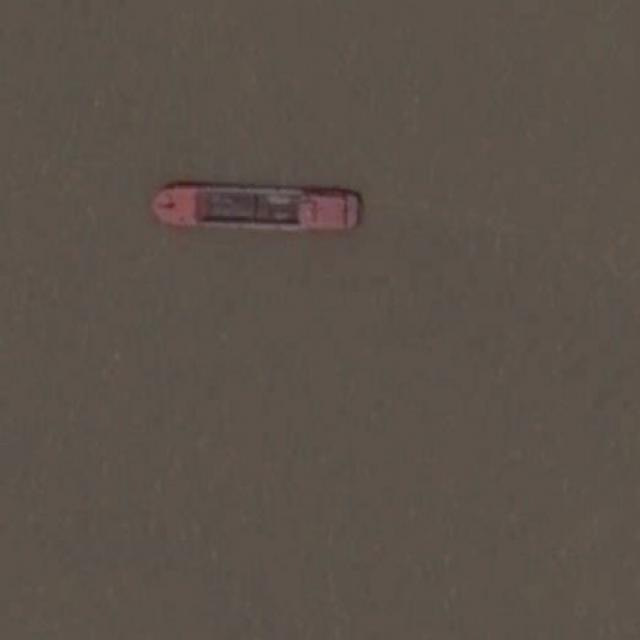ship: (146, 181, 364, 234)
